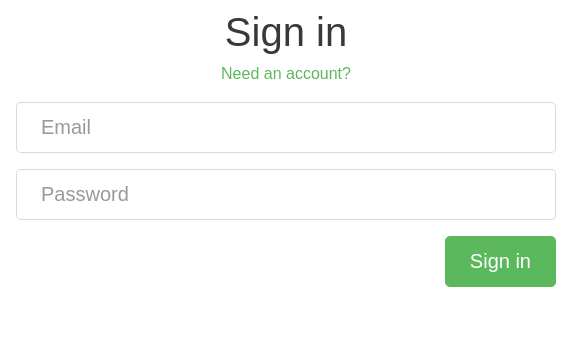
Test: Login page › shows errors from the backend
Click the button with test id "login-sign-in". click: {"x": 500, "y": 262}
box: [445,236,556,287]
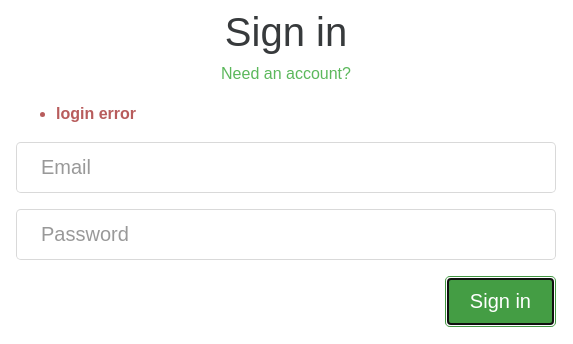
expect the number of list items with test id "error-list-item" is 1: met, box [56,105,136,122]
expect the list item with test id "error-list-item" reads "login error": met, box [56,105,136,122]
